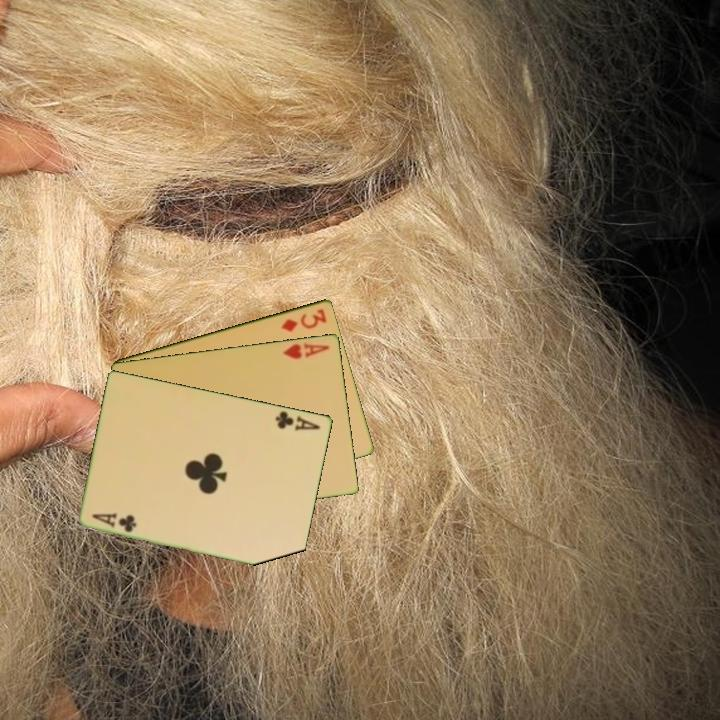3d: (278, 305, 330, 335)
Ac: (272, 407, 323, 433), (89, 509, 140, 535)
Ah: (280, 339, 333, 361)
